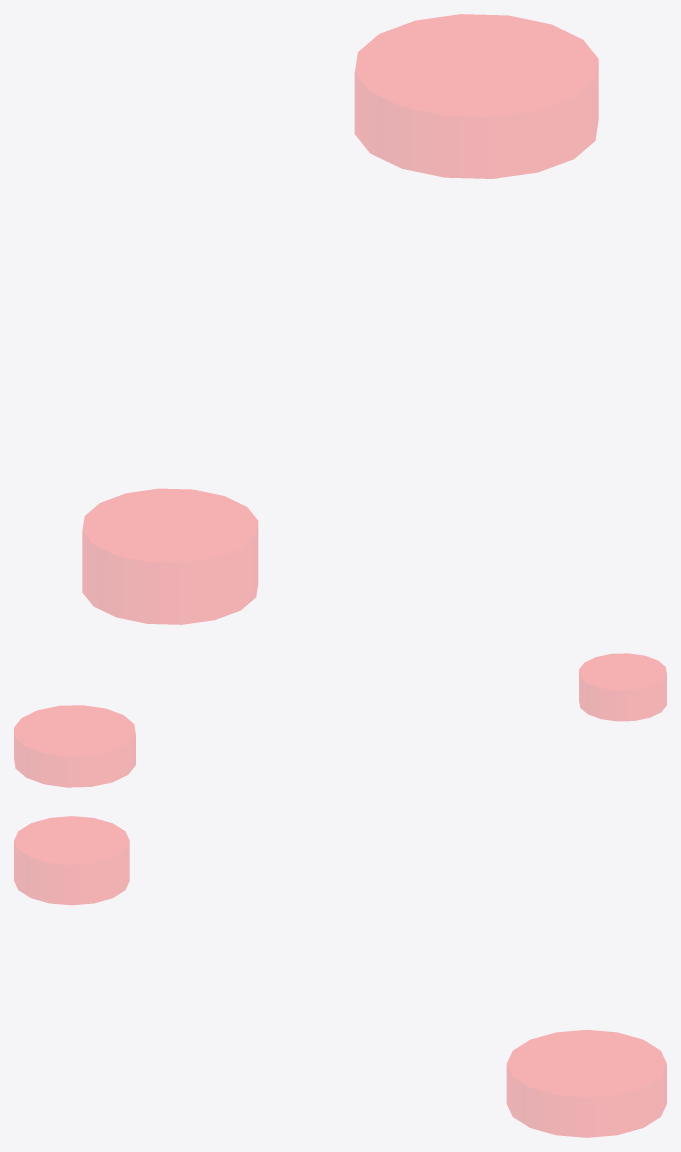
Rendered from s01a_ic1-obstacles.glb.
3 renders of one model, top to bottom at view 1: azimuth 30°, elevation 25°; view 2: azimuth 150°, elevation 25°; view 3: azimuth 270°, elevation 25°, orthographic. The views are drawn at different scales.
Visible parts, largest first — view 1: boulder-colonly (×2); view 2: boulder-colonly (×2); view 3: boulder-colonly (×2).
Boxes of the visible parts, x1,y1,x2,y2 form: boulder-colonly (×2): (82,14,598,624); boulder-colonly (×2): (14,653,666,787); boulder-colonly (×2): (14,816,666,1137).
Size of the model in its own units: 29.91 by 2 by 29.33.
